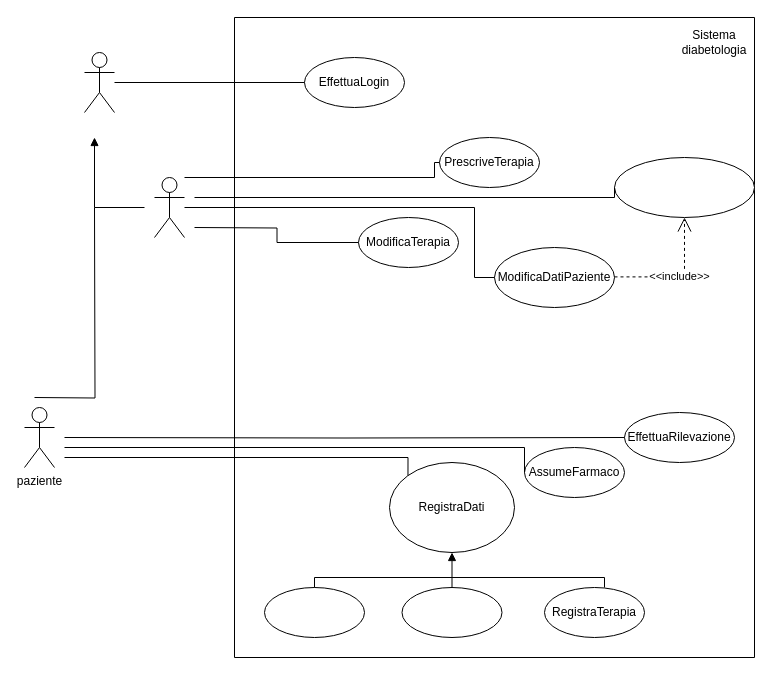
This 772x675 diagram has some shape labels left out. Here are the shapes that lost their labels. From the top down, the centre of each, then its label:
the point at 99,82: persona
the point at 169,207: medico
the point at 684,187: VIsualizzaDatiPaziente
the point at 314,612: RegistraSintomo
the point at 451,612: RegistraPatologia
